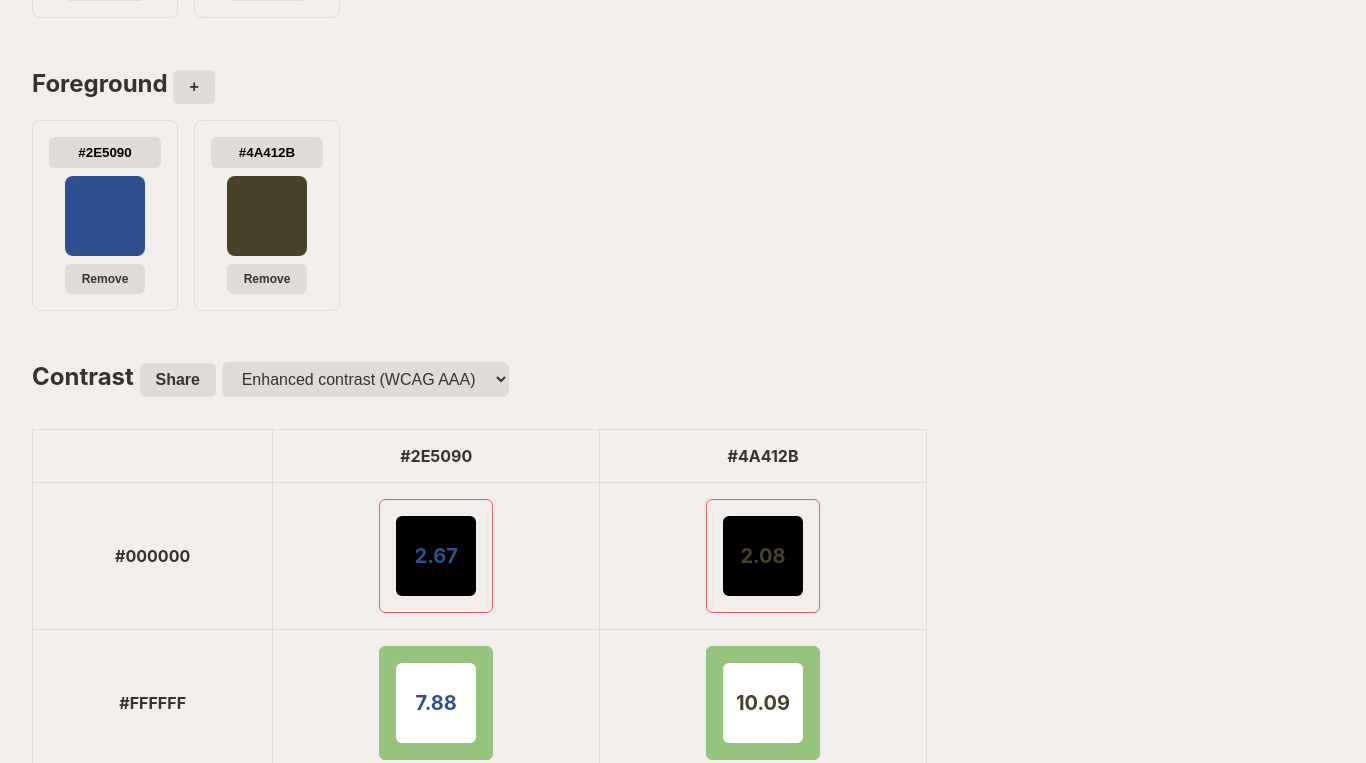
App Component Integration Test › displays notification when link is copied to clipboard
(page scrolled)
Click the button "Share" at x=178, y=380, box [140,363,216,397]
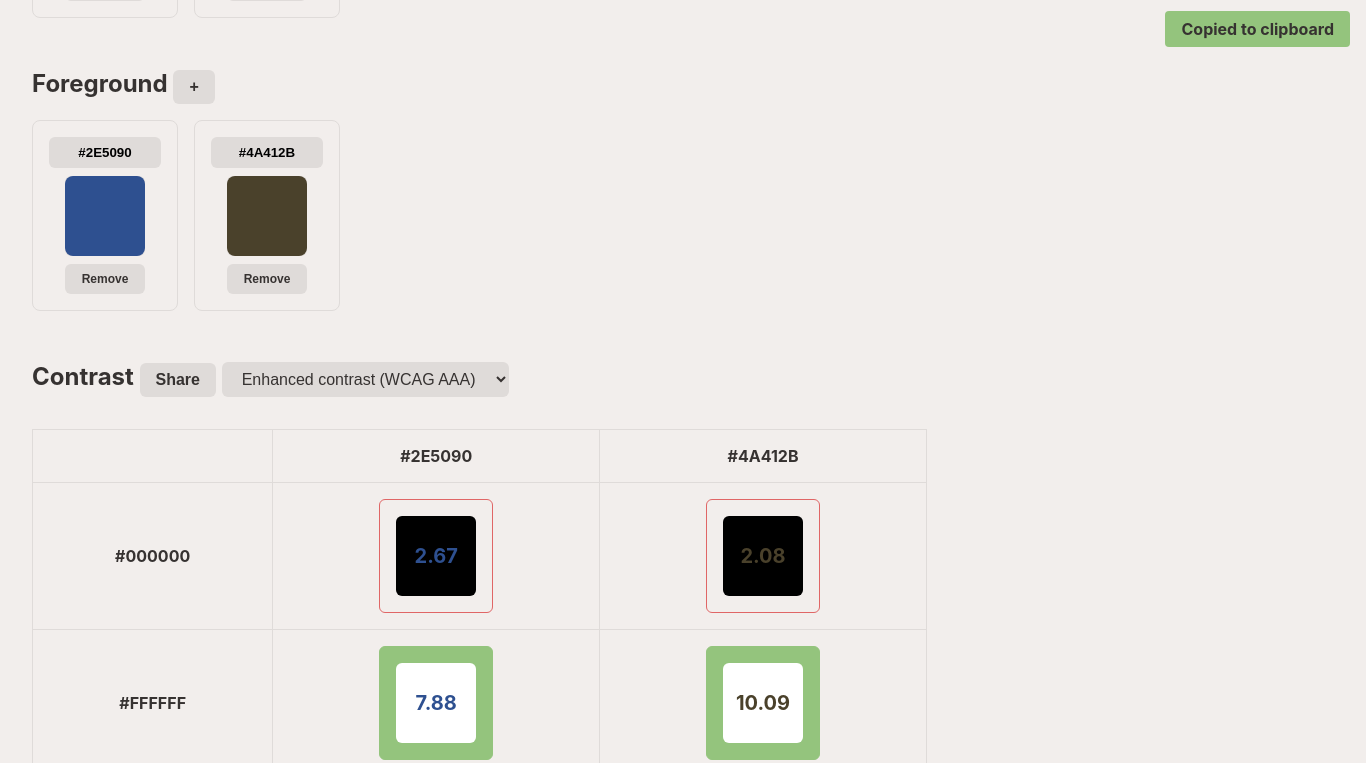
Result: the text "Copied to clipboard" is shown at [1166,11,1350,47]
